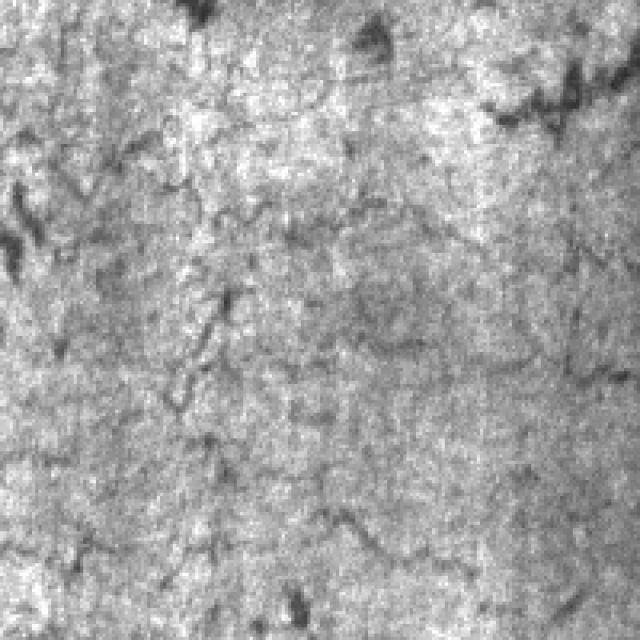crazing: (0, 106, 624, 400), (6, 426, 602, 630)
